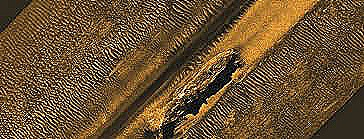ship: (157, 47, 238, 131)
